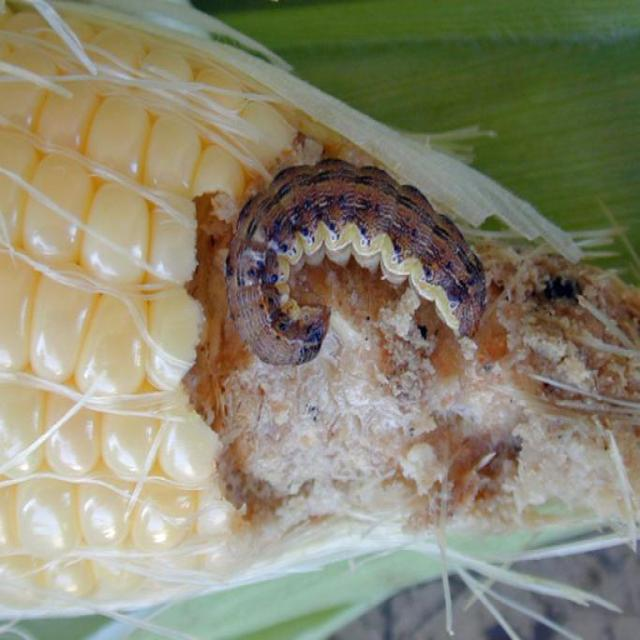worm: (224, 156, 488, 368)
